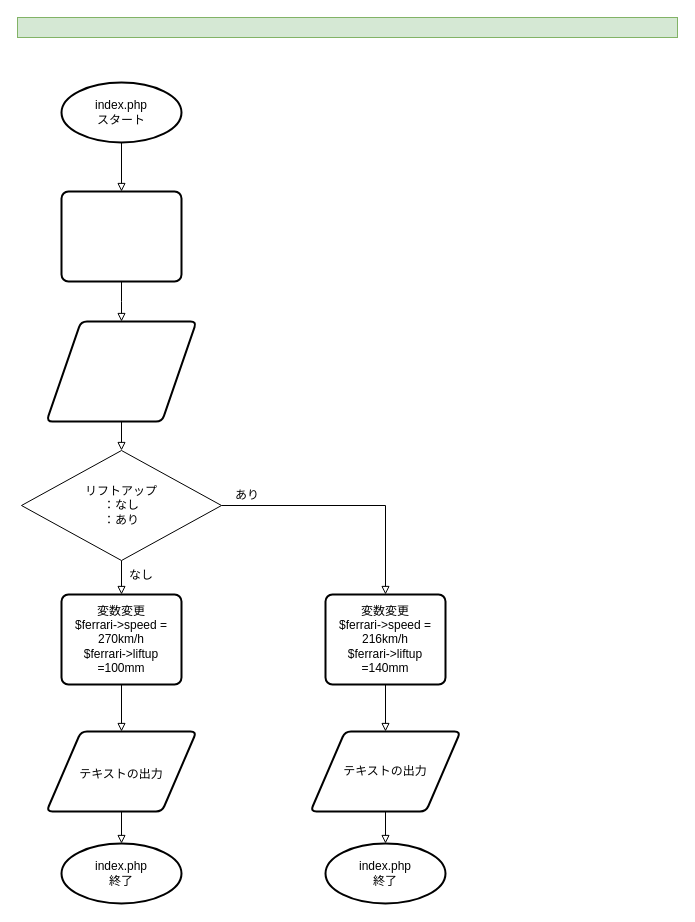
This 695x922 diagram has some shape labels left out. Here are the shapes that lost their labels. From the top down, the box of each, then its label:
(16, 16, 678, 38): 各機能のフローチャート
(60, 190, 182, 282): インスタンスの 初期化 Ferrari
(45, 320, 197, 422): 入力 ：オン ：オフ
